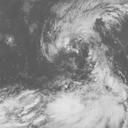cyclone: (40, 23, 107, 80)
